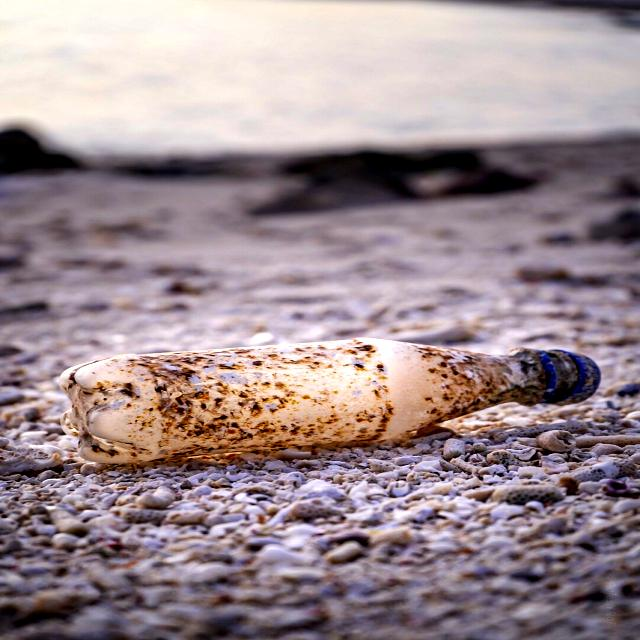Plastic: (51, 333, 605, 474)
